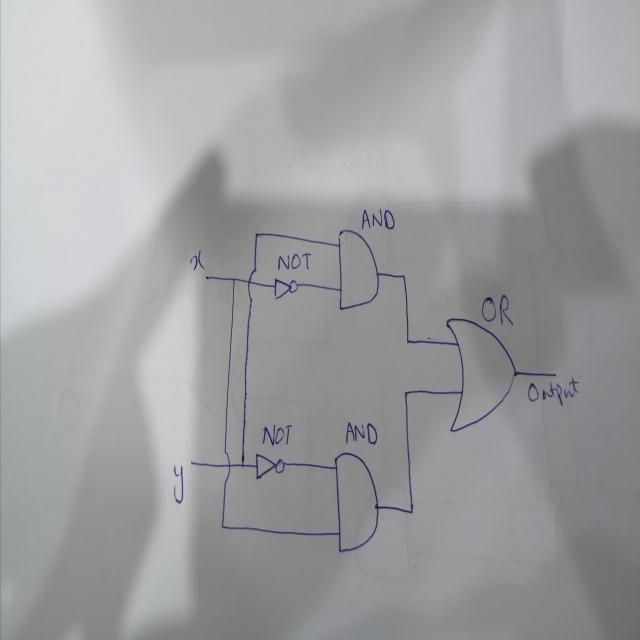crossover: (246, 265, 257, 303), (221, 448, 232, 484)
junction: (403, 333, 413, 349), (407, 502, 416, 518), (398, 268, 408, 282), (219, 518, 226, 531), (253, 227, 260, 240), (402, 387, 409, 398), (239, 459, 246, 470), (229, 274, 236, 284)
terminal: (203, 271, 209, 282), (189, 458, 195, 468), (552, 370, 559, 378)
text: (526, 374, 580, 407), (481, 292, 515, 328), (344, 417, 378, 447), (359, 206, 396, 232), (276, 249, 312, 273), (260, 422, 292, 448), (172, 462, 185, 505), (189, 250, 205, 271)
